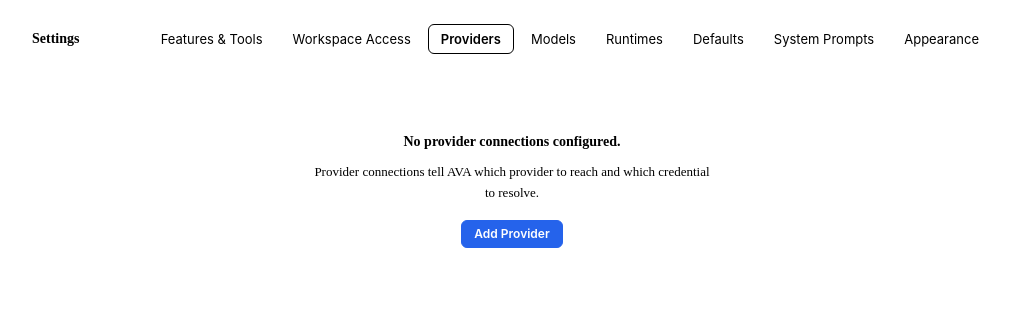
it: Runtimes inventory actions › shows the stable id and the runtime type on separate lines
The width and height of the screenshot is (1024, 328).
Click the tab "Runtimes" at x=634, y=39, box [593,24,676,54]
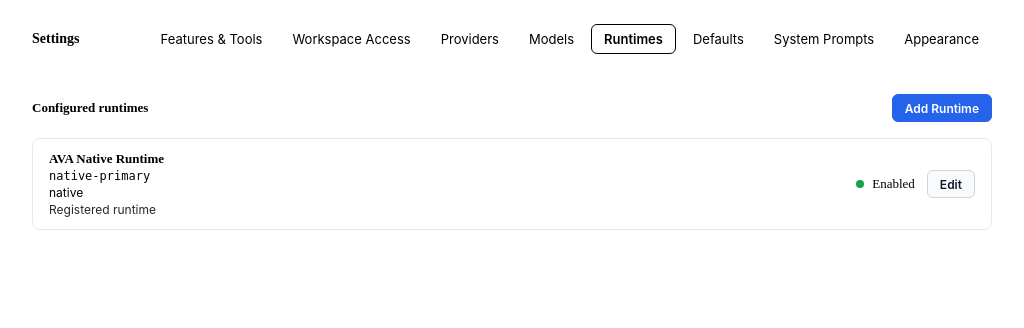
expect the text with test id "settings-inventory-entry-id" reads "native-primary": met, box [49,169,150,183]
expect the text with test id "settings-inventory-entry-meta" reads "native": met, box [49,185,83,200]
